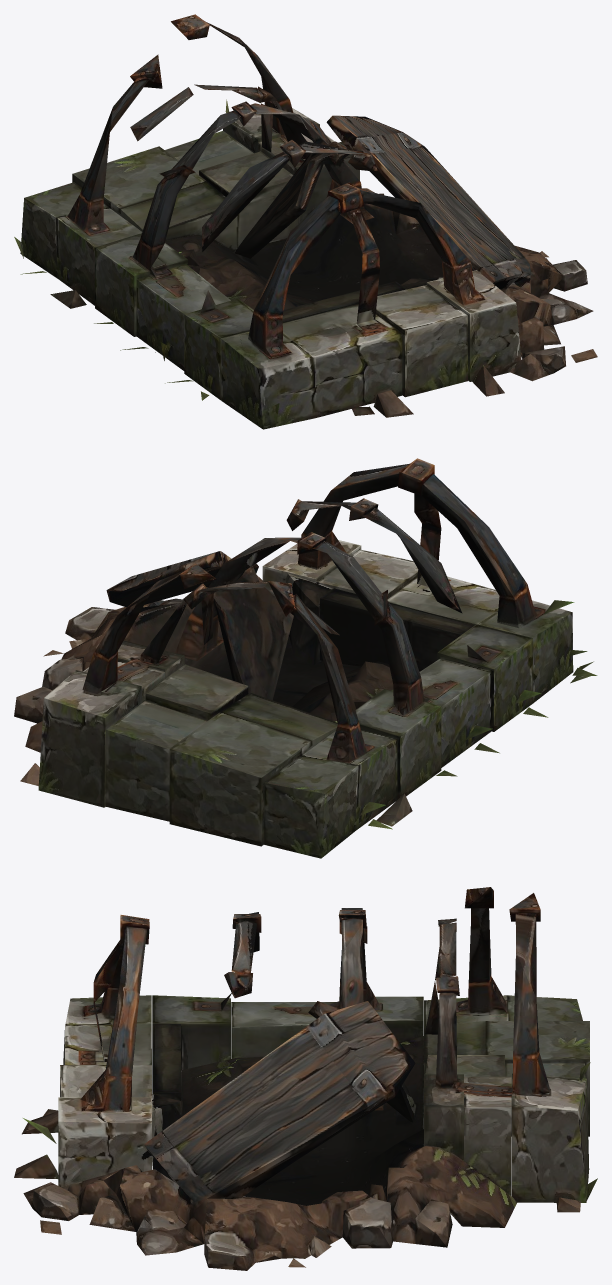
File: act1_extras_v1_unquiet_grave.glb
3 views of the same model, one above another, from view 1: azimuth 30°, elevation 25°; view 2: azimuth 150°, elevation 25°; view 3: azimuth 270°, elevation 25° (orthographic). The views are drawn at different scales.
Parts seen in each view (by area): view 1: A16_5_unquiet_grave; view 2: A16_5_unquiet_grave; view 3: A16_5_unquiet_grave.
Boxes of the visible parts, bbox=[...] form: A16_5_unquiet_grave: bbox=[14, 14, 597, 429]; A16_5_unquiet_grave: bbox=[14, 458, 597, 858]; A16_5_unquiet_grave: bbox=[14, 887, 597, 1270].
Bounding box in the file's own units: 0.8735 × 0.4258 × 0.9395.
1 material, 1 textured.
